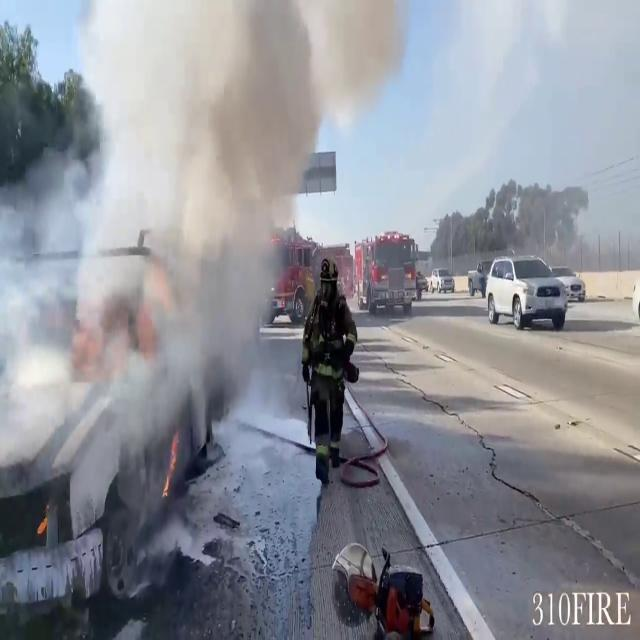Smoke: (1, 0, 407, 500)
